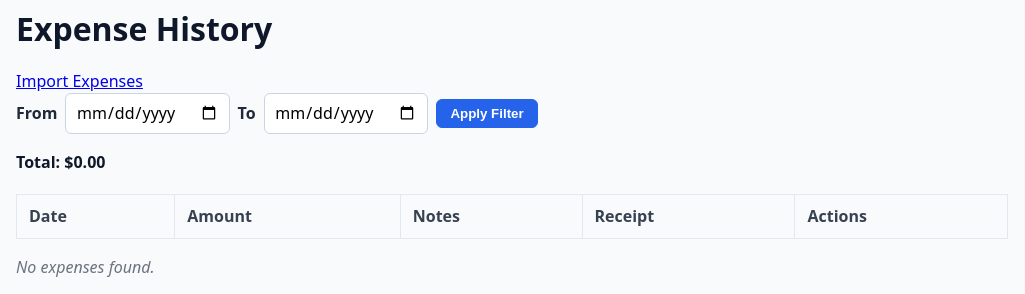
ExpenseHistoryPage › applies date range filter
Type "2026-04-01" into the date field labelled "From" at [148, 113], box [65,93,230,134]
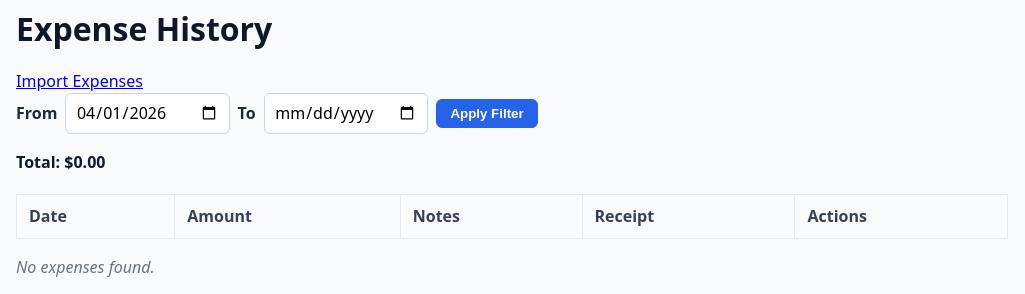
Type "2026-04-30" into the date field labelled "To" at [346, 113], box [264,93,428,134]
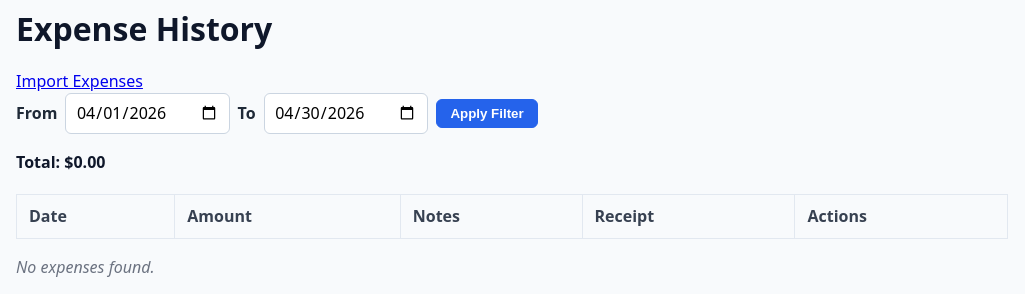
Click the button "Apply Filter" at [487, 113], box [436,98,538,128]
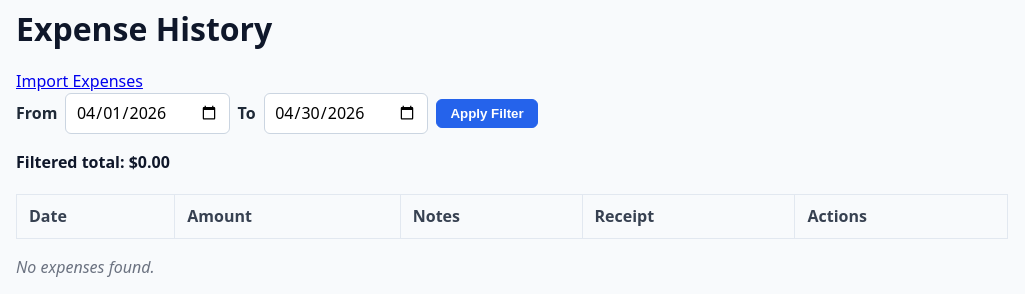
expect the text "Filtered total: $0.00" is shown: met, box [16,151,170,173]
